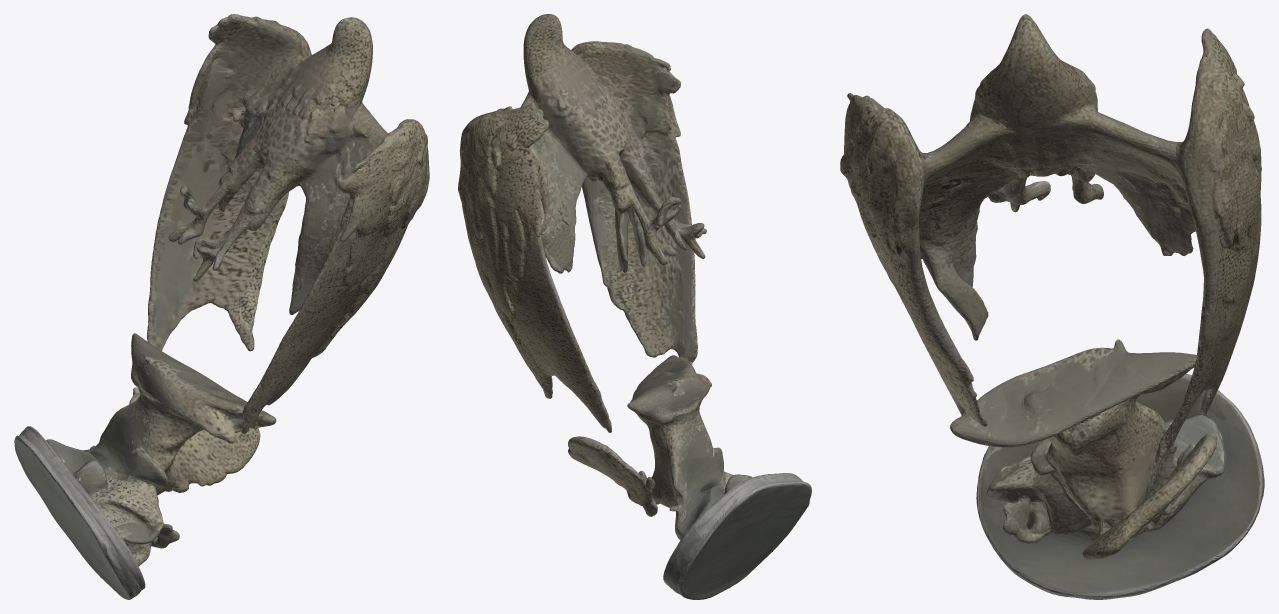
The model's file is eagle-on-spire.glb.
3 views of the same model, side by side, from view 1: azimuth 30°, elevation 25°; view 2: azimuth 150°, elevation 25°; view 3: azimuth 270°, elevation 25° (orthographic). The views are drawn at different scales.
Visible parts, largest first — view 1: eagle on spire_textured.obj; view 2: eagle on spire_textured.obj; view 3: eagle on spire_textured.obj.
Boxes of the visible parts, x1=… form: eagle on spire_textured.obj: x1=14, y1=14, x2=429, y2=599; eagle on spire_textured.obj: x1=458, y1=14, x2=811, y2=599; eagle on spire_textured.obj: x1=840, y1=14, x2=1264, y2=599.
Bounding box in the file's own units: 1.19 × 1.99 × 1.07.
Materials: 1 (1 with a texture image).
